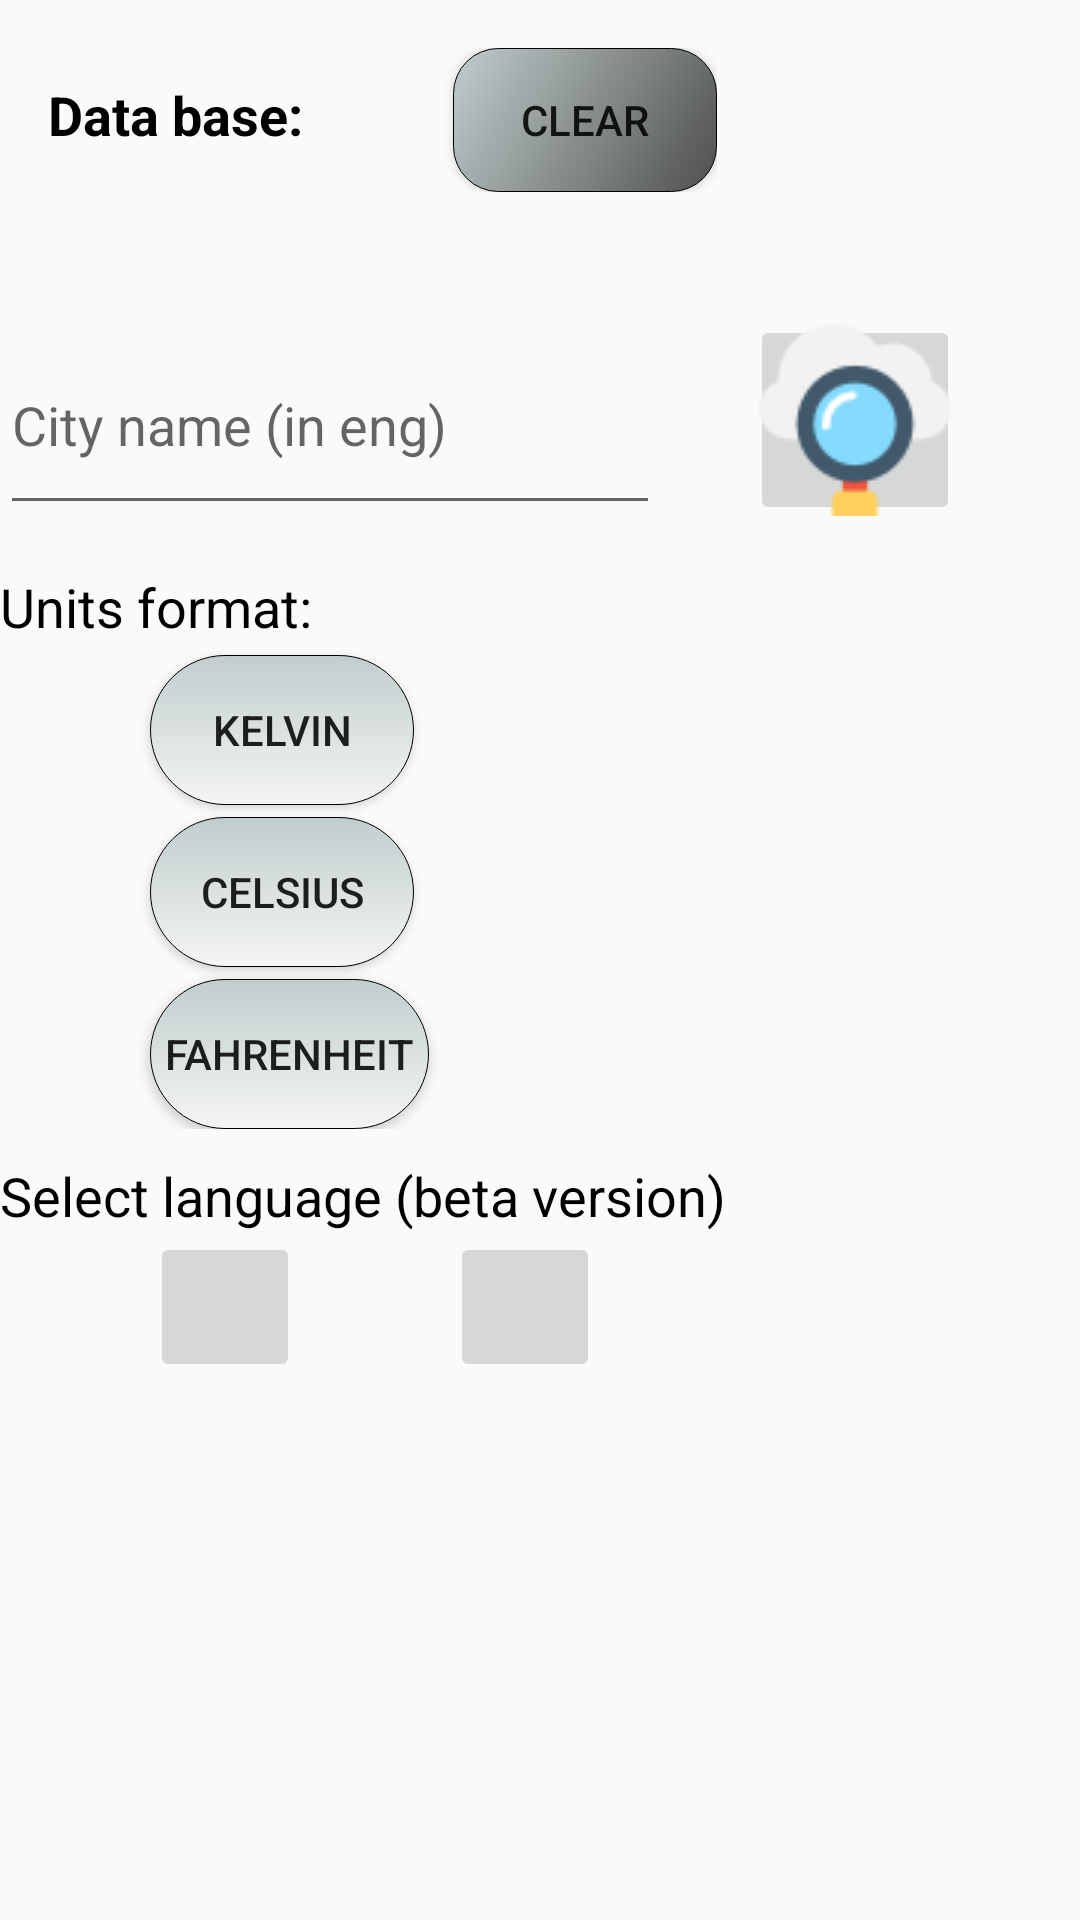

Icons on this 1080×1920 Android screen, each with the point to tap as point (x, y):
search: point (855, 424)
